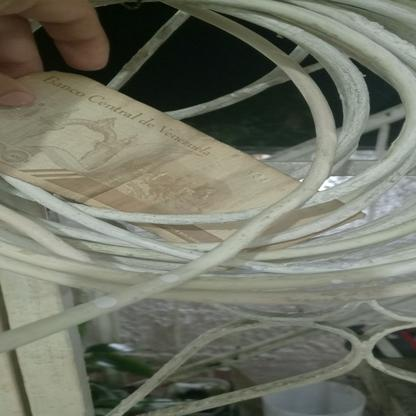five-back-vef: (1, 70, 367, 271)
